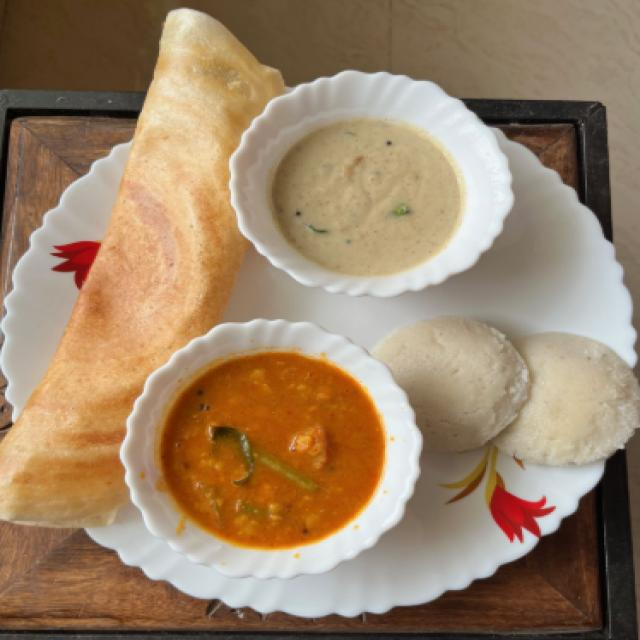coconut chutney: (269, 84, 497, 264)
